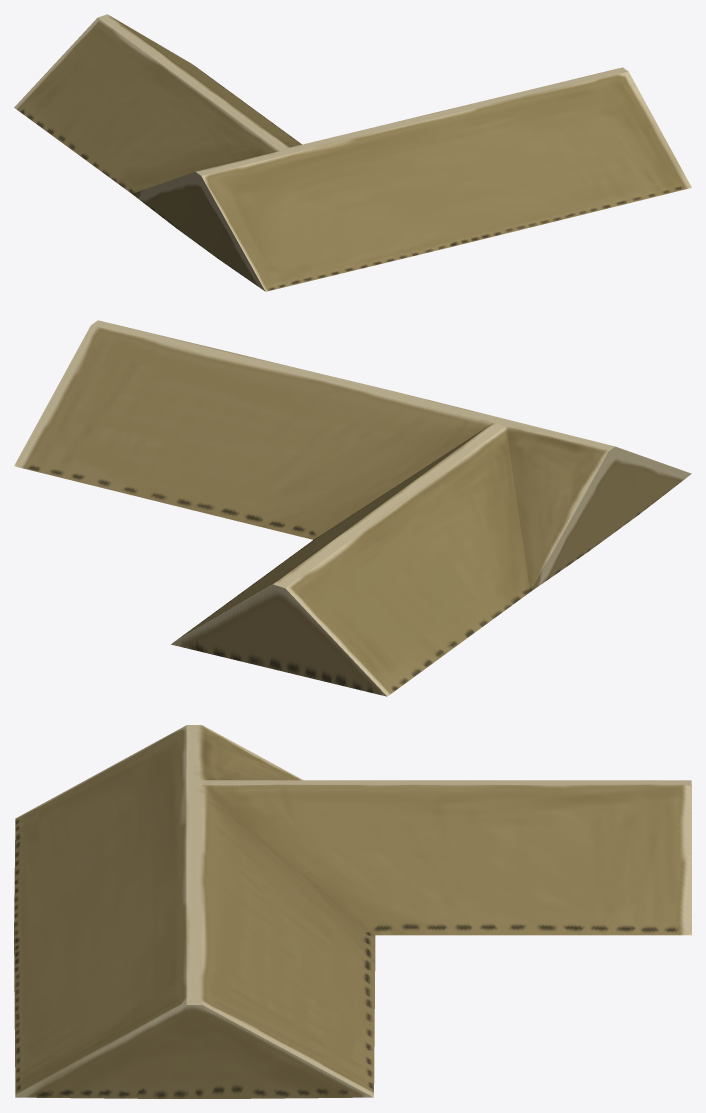
Rendered from TentTop1.fbx.
3 renders of one model, top to bottom at view 1: azimuth 30°, elevation 25°; view 2: azimuth 150°, elevation 25°; view 3: azimuth 270°, elevation 25°, orthographic. The views are drawn at different scales.
Parts seen in each view (by area): view 1: pPlane5; view 2: pPlane5; view 3: pPlane5.
Boxes of the visible parts, left/top/right/bottom form: pPlane5: left=14, top=14, right=691, bottom=291; pPlane5: left=14, top=320, right=691, bottom=696; pPlane5: left=14, top=725, right=691, bottom=1098.
Size of the model in its own units: 7.95 by 1.24 by 8.09.
